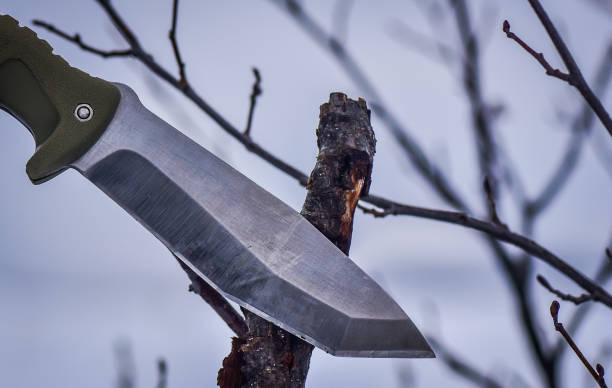knife: (0, 6, 442, 361)
